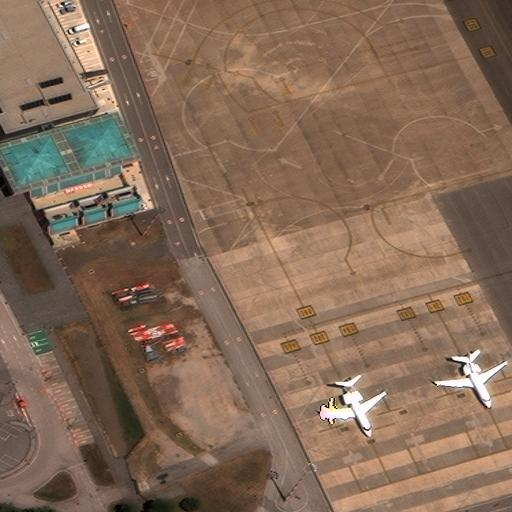Medium Civil Transport: (436, 354, 507, 408), (324, 379, 386, 437)
